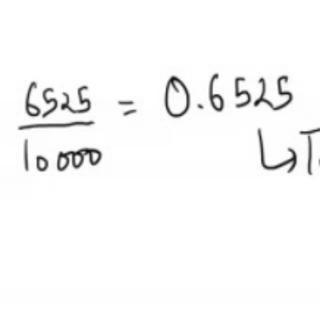.: (195, 100, 210, 113)
0: (160, 70, 192, 122), (83, 142, 104, 172), (34, 150, 50, 179), (54, 145, 71, 171), (70, 145, 84, 173)
1: (22, 135, 32, 176)
2: (252, 69, 275, 114), (60, 91, 74, 119)
5: (273, 70, 295, 117), (231, 73, 253, 113), (39, 84, 58, 119), (74, 81, 93, 114)
6: (205, 65, 228, 113), (22, 79, 41, 121)
